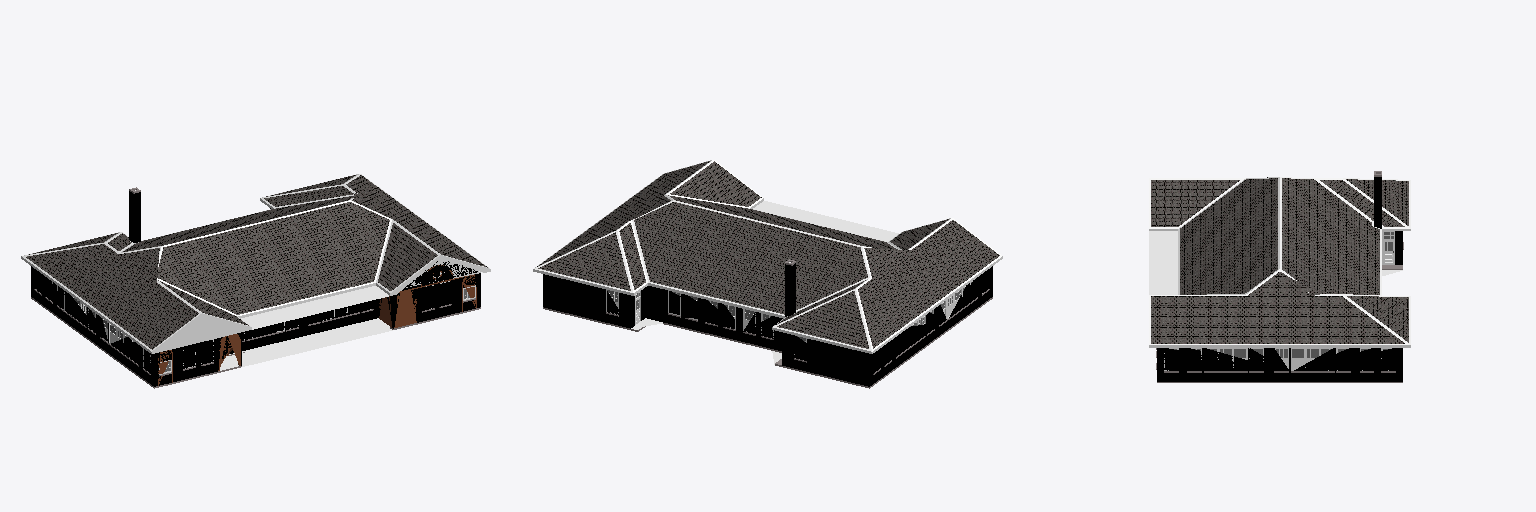
3 renders of one model, left to right at view 1: azimuth 30°, elevation 25°; view 2: azimuth 150°, elevation 25°; view 3: azimuth 270°, elevation 25°, orthographic.
Parts seen in each view (by area): view 1: Mesh37_Group1_Model; view 2: Mesh37_Group1_Model; view 3: Mesh37_Group1_Model.
Part boxes in pixels (left/top/right/bottom): Mesh37_Group1_Model: left=21, top=174, right=490, bottom=388; Mesh37_Group1_Model: left=533, top=160, right=1002, bottom=388; Mesh37_Group1_Model: left=1149, top=171, right=1410, bottom=382.
Bounding box in the file's own units: 243 × 65.4 × 162.
Materials: 8 (1 with a texture image).